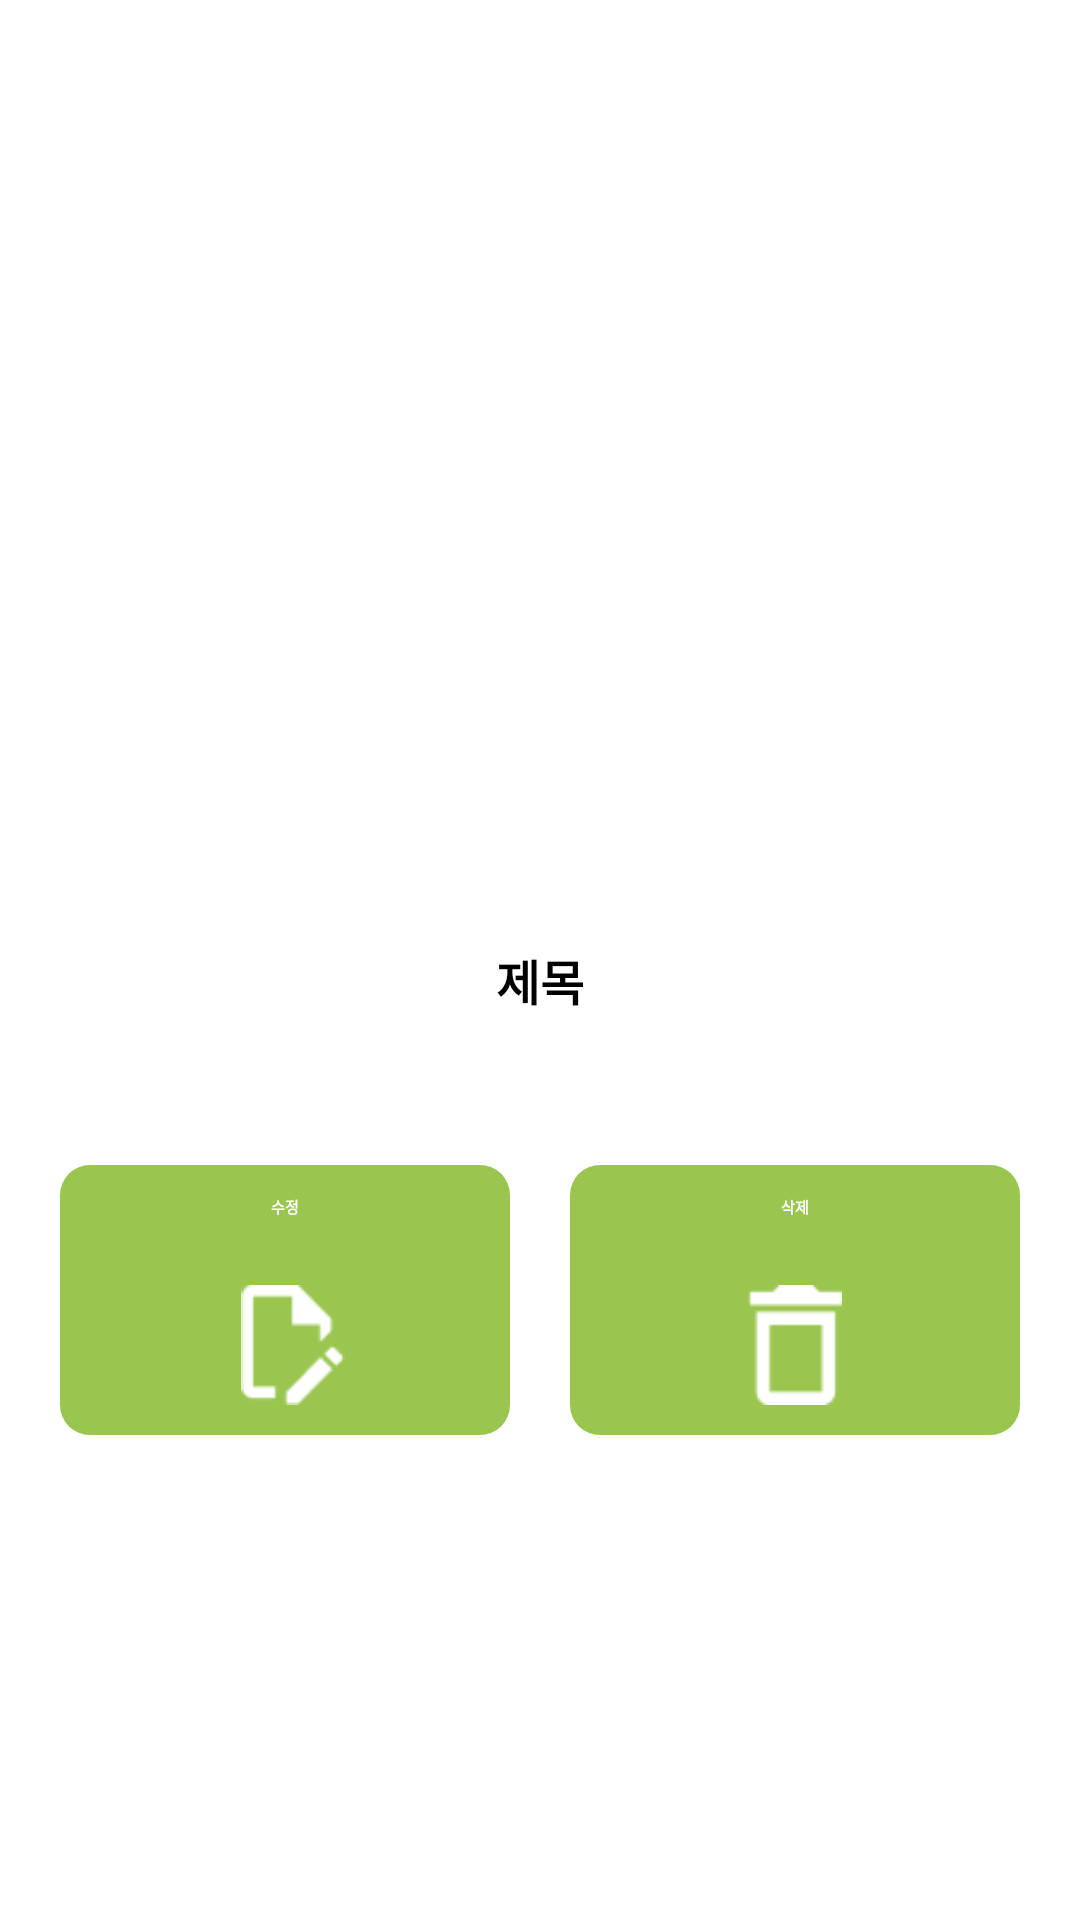

Where icons sit on this 1080 × 1920 app screen, as (x1, y1, x2, y2):
todo folder delete: (749, 1285, 842, 1405)
todo folder update: (241, 1285, 343, 1405)
